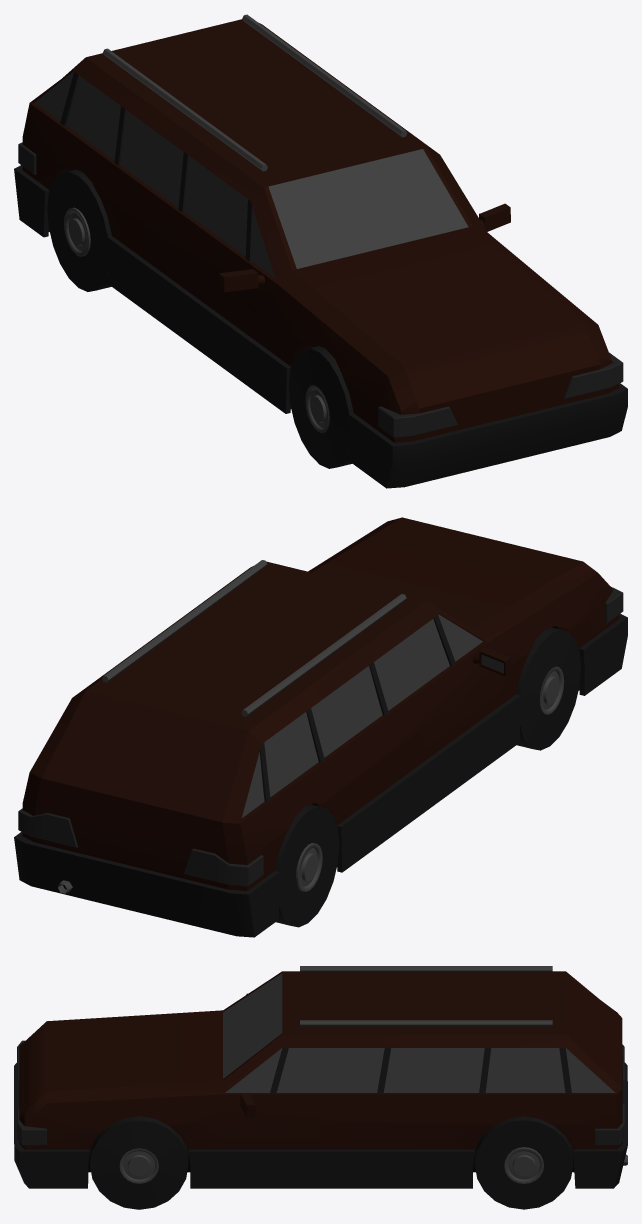
Rendered from Car_02.fbx.
3 renders of one model, top to bottom at view 1: azimuth 30°, elevation 25°; view 2: azimuth 150°, elevation 25°; view 3: azimuth 270°, elevation 25°, orthographic. The views are drawn at different scales.
Visible parts, largest first — view 1: Car_02; view 2: Car_02; view 3: Car_02.
Boxes of the visible parts, x1,y1,x2,y2 form: Car_02: [14, 14, 627, 488]; Car_02: [14, 517, 627, 937]; Car_02: [14, 966, 627, 1209].
Bounding box in the file's own units: 535 × 383 × 1245.
